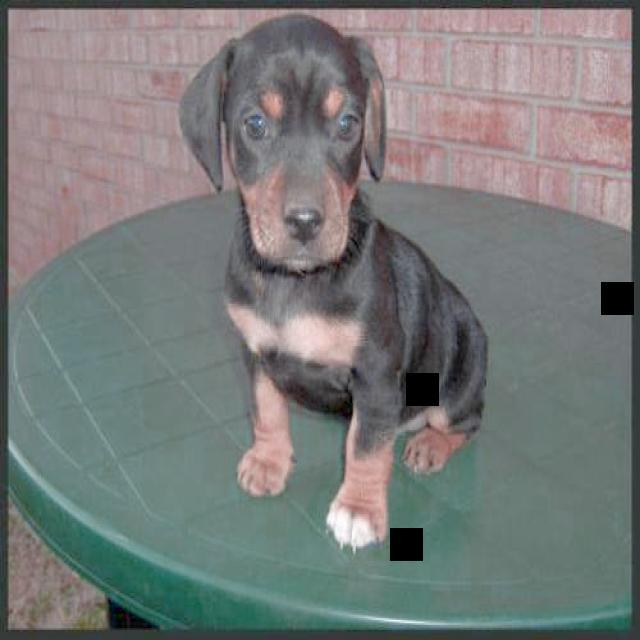puppy-dog: (178, 15, 487, 549)
